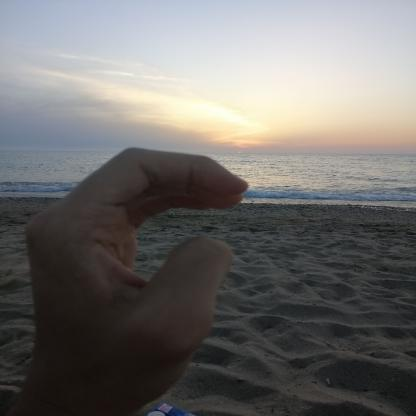JEEM: (8, 137, 258, 413)
